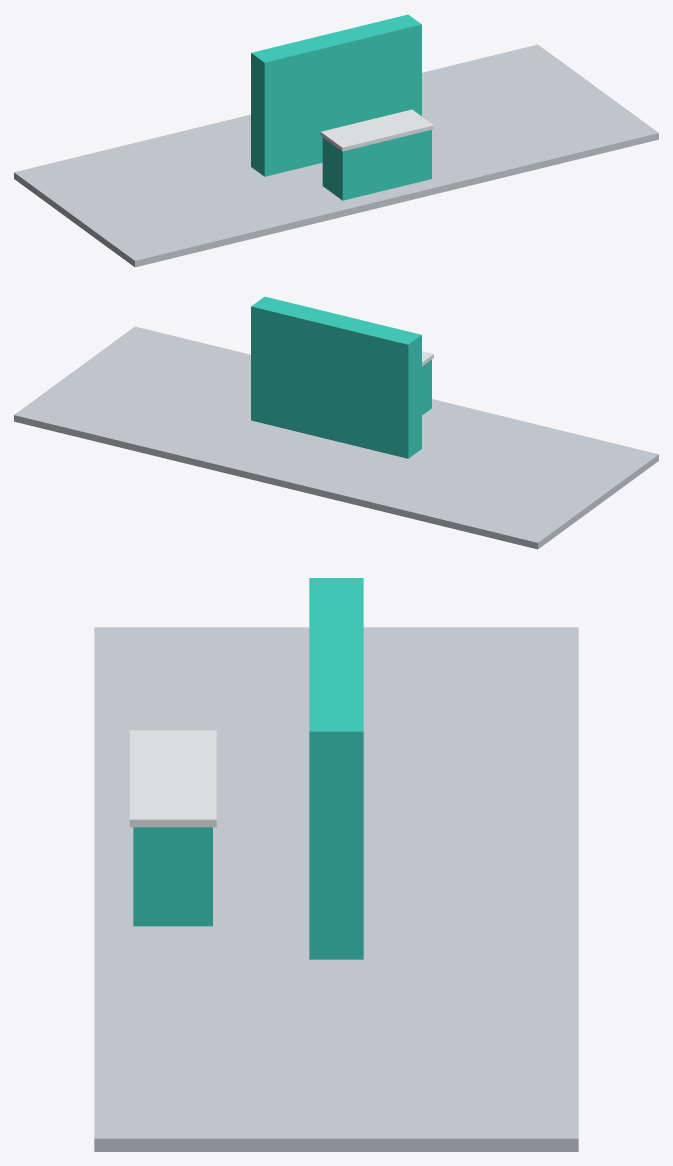
3 renders of one model, top to bottom at view 1: azimuth 30°, elevation 25°; view 2: azimuth 150°, elevation 25°; view 3: azimuth 270°, elevation 25°, orthographic. The views are drawn at different scales.
Parts seen in each view (by area): view 1: Exhibition Booth Concept; view 2: Exhibition Booth Concept; view 3: Exhibition Booth Concept.
Boxes of the visible parts, x1,y1,x2,y2 form: Exhibition Booth Concept: [14, 14, 658, 267]; Exhibition Booth Concept: [14, 296, 658, 549]; Exhibition Booth Concept: [94, 578, 578, 1151].
Bounding box in the file's own units: 10 × 2.2 × 4.
